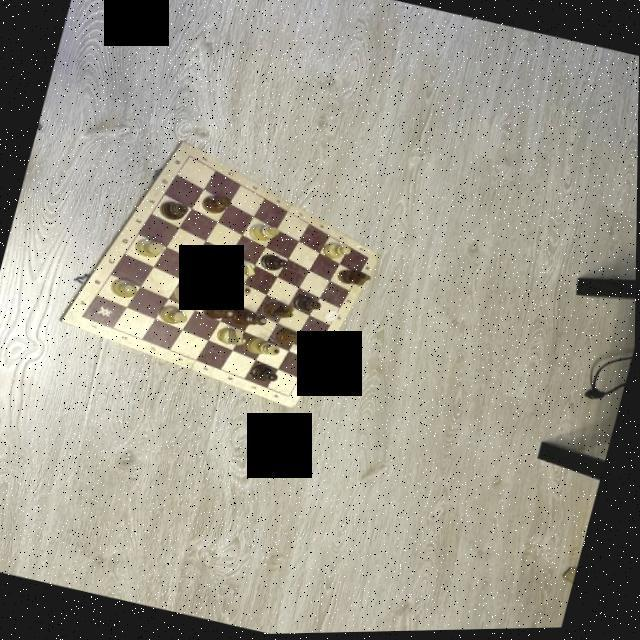chess-table-corners: (78, 314, 85, 318), (186, 154, 192, 158), (287, 395, 291, 399), (366, 258, 369, 261)
